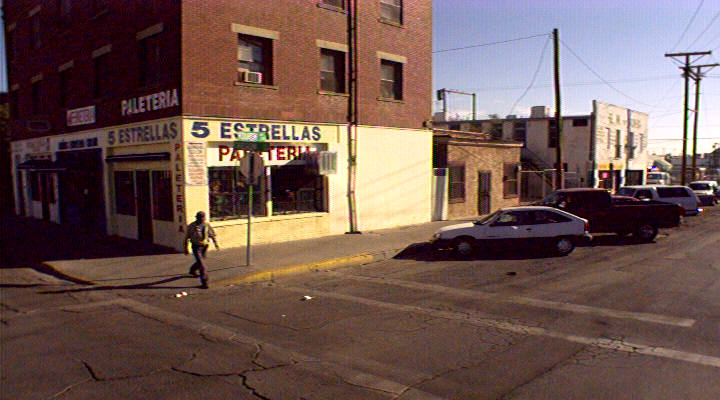Ramp: (66, 256, 246, 292)
